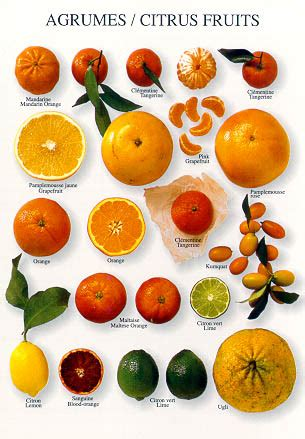orange: (212, 326, 298, 412), (215, 105, 292, 187), (102, 108, 175, 187), (12, 197, 72, 258), (10, 42, 62, 99), (75, 270, 127, 323), (136, 277, 183, 325), (172, 189, 214, 236), (69, 48, 114, 88), (238, 50, 279, 92), (124, 47, 166, 87)
